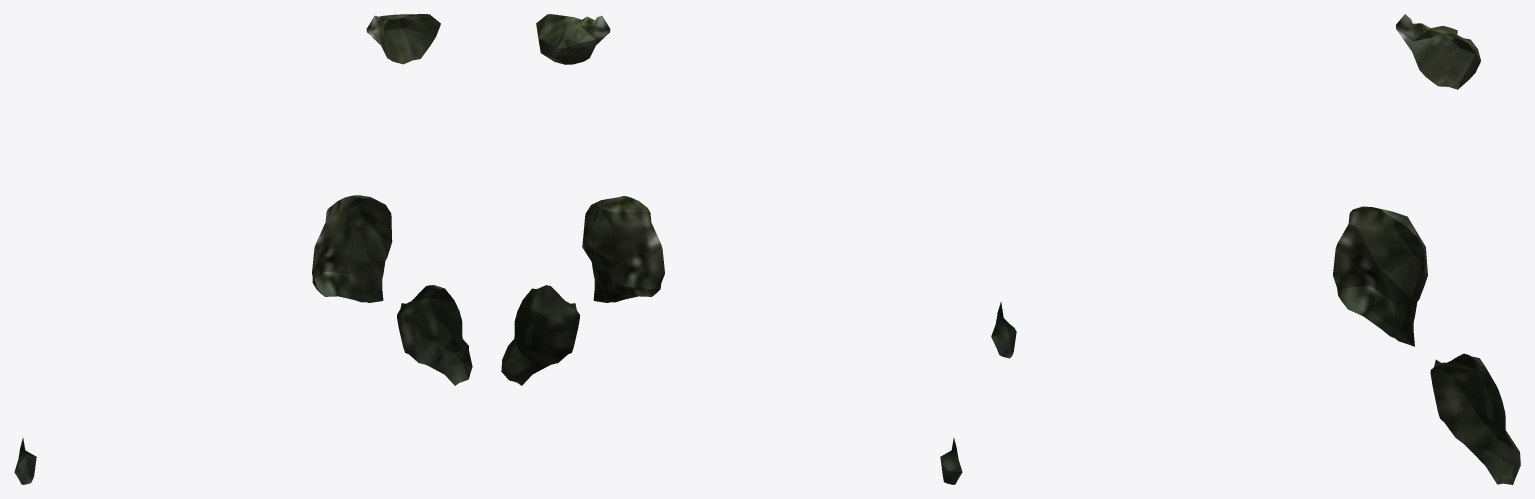
3 renders of one model, left to right at view 1: azimuth 30°, elevation 25°; view 2: azimuth 150°, elevation 25°; view 3: azimuth 330°, elevation 25°, orthographic. The views are drawn at different scales.
Bounding box in the file's own units: 1.55 × 1.26 × 0.1246.
1 material, 1 textured.
